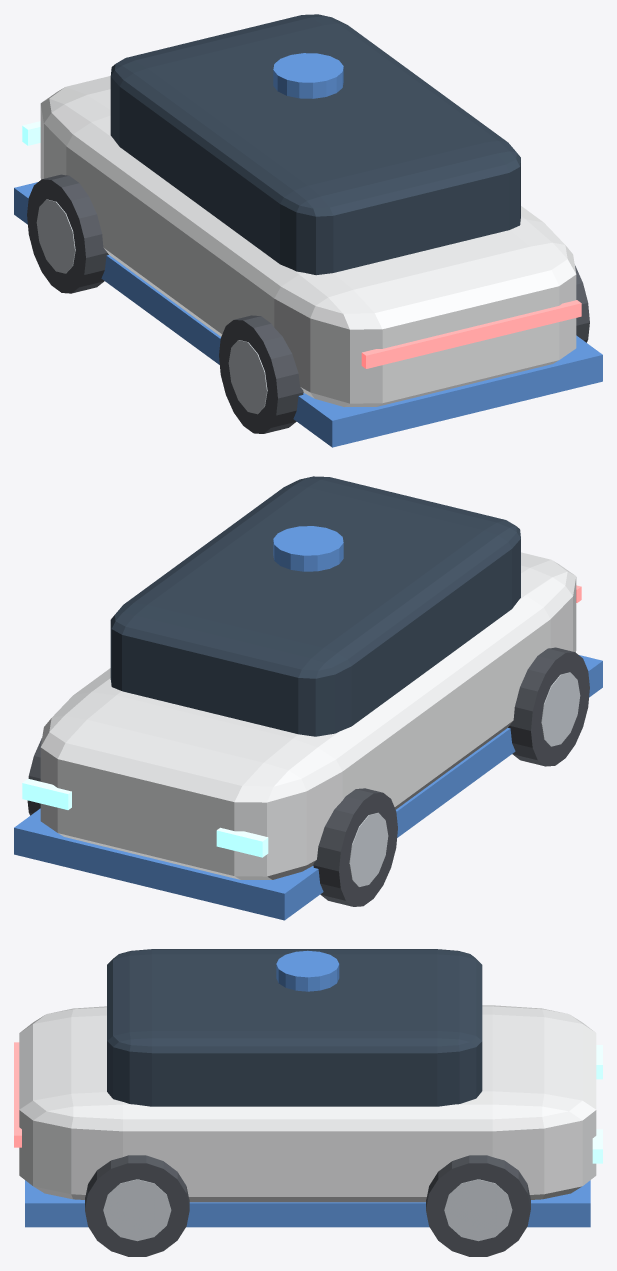
File: developer-vehicle.glb
The picture shows the model from 3 angles, top to bottom: view 1: azimuth 30°, elevation 25°; view 2: azimuth 150°, elevation 25°; view 3: azimuth 270°, elevation 25°; orthographic projection. The views are drawn at different scales.
Parts seen in each view (by area): view 1: VehicleGlass, VehicleBody, VehicleSkirt, Wheel_RL, Wheel_FL, VehicleLights_Rear, VehicleLiDAR, Wheel_RL_AlloyCap, Wheel_FL_AlloyCap, Wheel_RR; view 2: VehicleGlass, VehicleBody, VehicleSkirt, Wheel_FL, Wheel_RL, VehicleLiDAR, Wheel_RL_AlloyCap, Wheel_FL_AlloyCap, Headlight_L, Headlight_R; view 3: VehicleBody, VehicleGlass, VehicleSkirt, Wheel_FR, Wheel_RR, Wheel_FR_AlloyCap, Wheel_RR_AlloyCap, VehicleLiDAR, VehicleLights_Rear.
Boxes of the visible parts, <box> form: VehicleGlass: <box>110,14,520,275</box>; VehicleBody: <box>40,76,576,407</box>; VehicleSkirt: <box>14,182,602,447</box>; Wheel_RL: <box>219,315,303,433</box>; Wheel_FL: <box>27,174,108,293</box>; VehicleLights_Rear: <box>361,300,581,368</box>; VehicleLiDAR: <box>273,53,343,98</box>; Wheel_RL_AlloyCap: <box>228,340,267,414</box>; Wheel_FL_AlloyCap: <box>36,199,75,273</box>; Wheel_RR: <box>575,265,589,342</box>; VehicleGlass: <box>110,476,520,736</box>; VehicleBody: <box>40,552,576,879</box>; VehicleSkirt: <box>14,655,602,920</box>; Wheel_FL: <box>313,788,397,906</box>; Wheel_RL: <box>508,647,589,766</box>; VehicleLiDAR: <box>273,526,343,571</box>; Wheel_RL_AlloyCap: <box>541,672,580,746</box>; Wheel_FL_AlloyCap: <box>349,812,388,886</box>; Headlight_L: <box>216,827,268,857</box>; Headlight_R: <box>22,778,71,809</box>; VehicleBody: <box>19,1005,596,1202</box>; VehicleGlass: <box>107,949,482,1106</box>; VehicleSkirt: <box>25,1180,590,1227</box>; Wheel_FR: <box>426,1155,530,1256</box>; Wheel_RR: <box>85,1155,189,1256</box>; Wheel_FR_AlloyCap: <box>444,1179,512,1241</box>; Wheel_RR_AlloyCap: <box>103,1179,171,1241</box>; VehicleLiDAR: <box>276,950,339,991</box>; VehicleLights_Rear: <box>14,1042,21,1147</box>.
Size of the model in its own units: 1.22 by 0.947 by 2.25.
